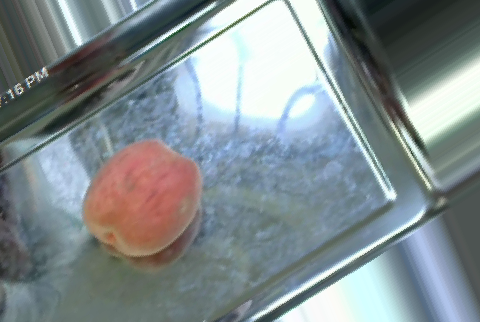Peach: (85, 140, 200, 254)
